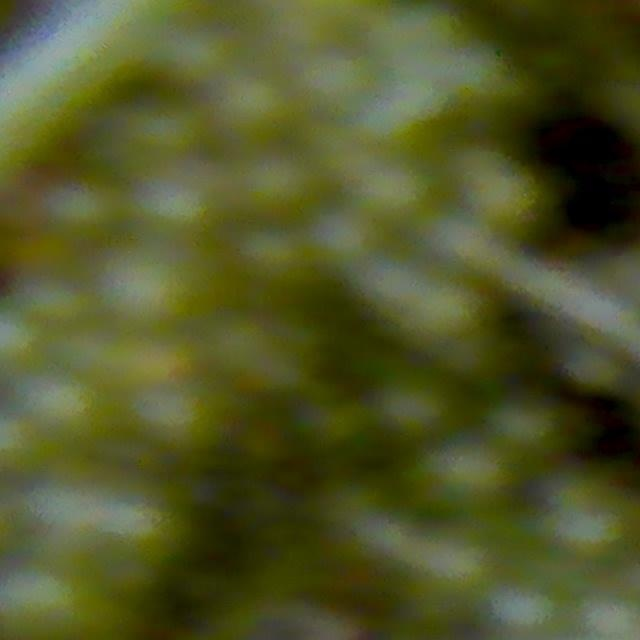SeaGrape: (103, 240, 200, 337), (544, 472, 637, 564), (417, 435, 513, 520), (15, 377, 115, 456), (0, 555, 94, 637), (91, 498, 176, 580), (355, 155, 440, 237), (140, 373, 237, 440), (300, 40, 385, 116), (216, 69, 297, 145), (485, 398, 570, 470), (382, 377, 467, 447), (233, 143, 306, 222), (304, 203, 381, 277), (235, 221, 312, 293), (15, 467, 85, 546), (136, 158, 209, 231), (376, 0, 458, 64), (133, 95, 208, 164), (479, 580, 561, 640), (50, 182, 113, 246), (564, 595, 637, 640), (27, 279, 94, 321)
